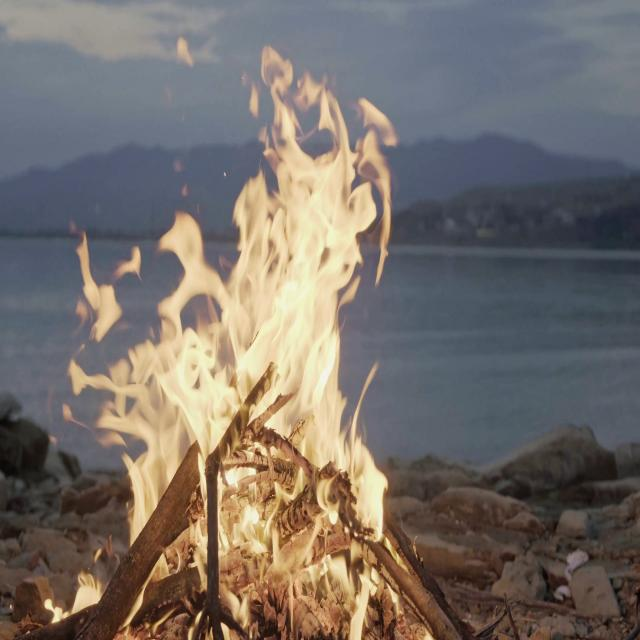Fire: (192, 73, 397, 538), (65, 211, 240, 546), (209, 457, 319, 637), (311, 529, 369, 640)
